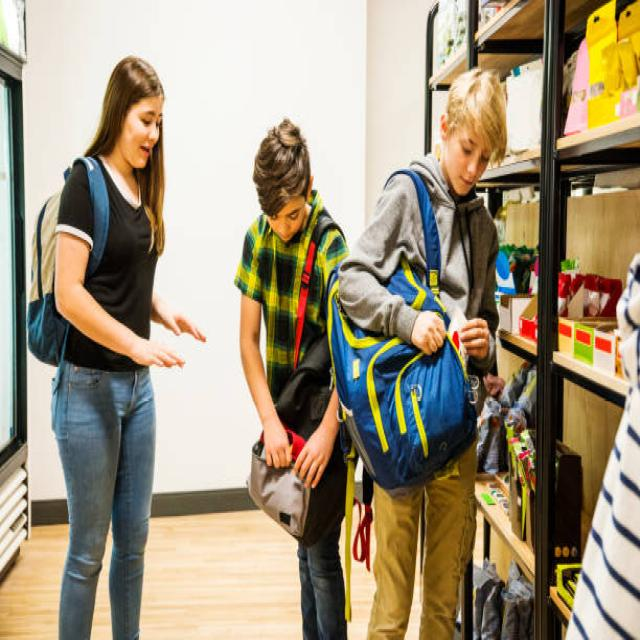bags: (327, 267, 475, 493), (248, 336, 346, 544), (386, 169, 449, 326), (28, 188, 68, 364), (76, 158, 108, 278)
hands: (293, 430, 331, 490), (156, 305, 206, 342), (261, 422, 290, 471), (411, 312, 445, 353), (130, 342, 183, 367), (459, 318, 489, 356)
person: (234, 119, 325, 466), (410, 71, 505, 376), (369, 445, 475, 637), (338, 174, 443, 353), (298, 229, 347, 364), (299, 529, 345, 637), (296, 413, 337, 486)
